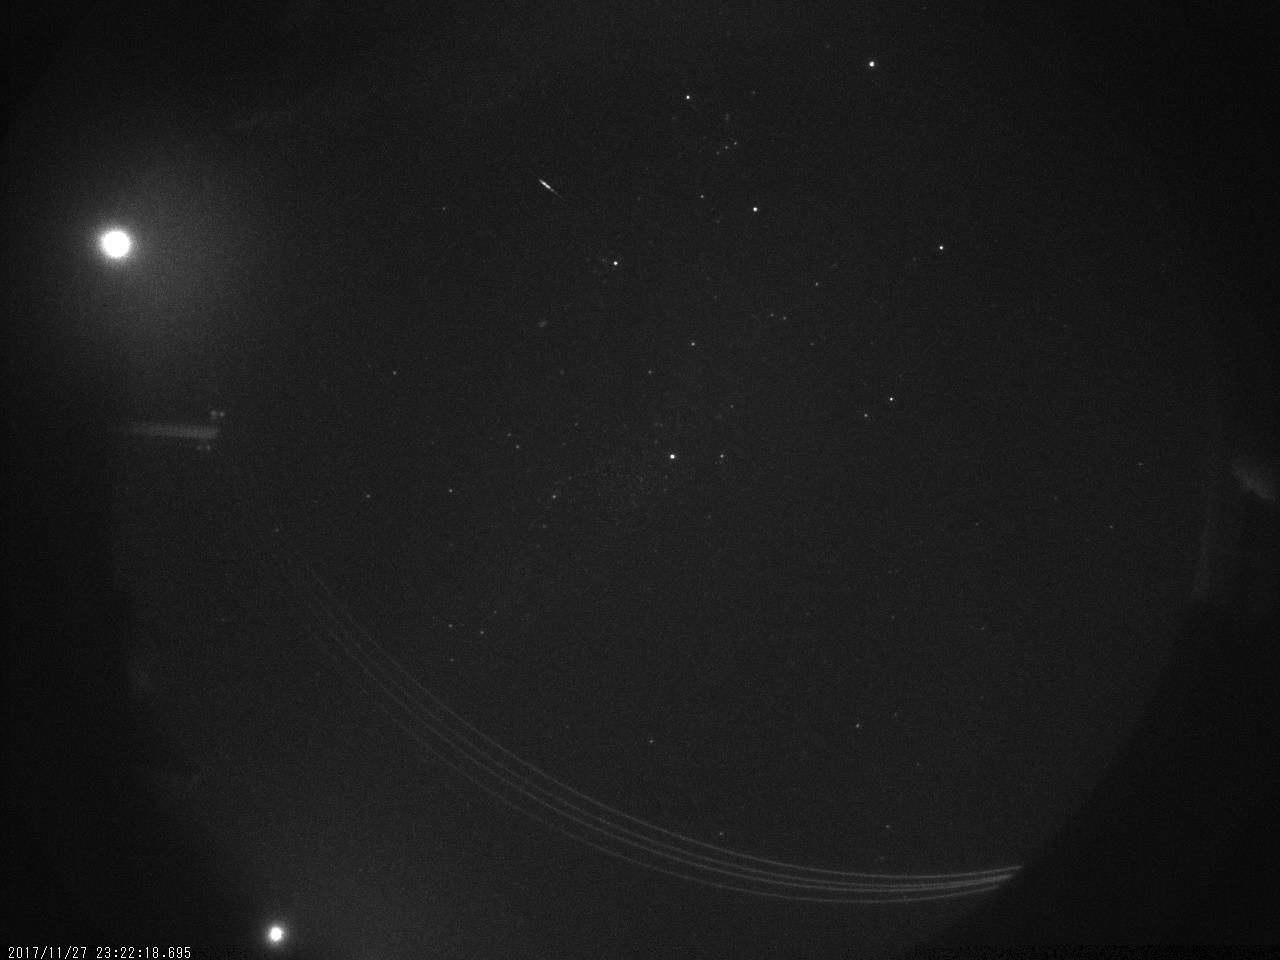meteor: (532, 173, 577, 212)
